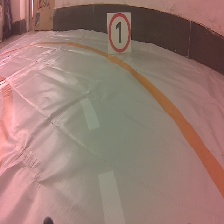limit: (105, 11, 134, 56)
